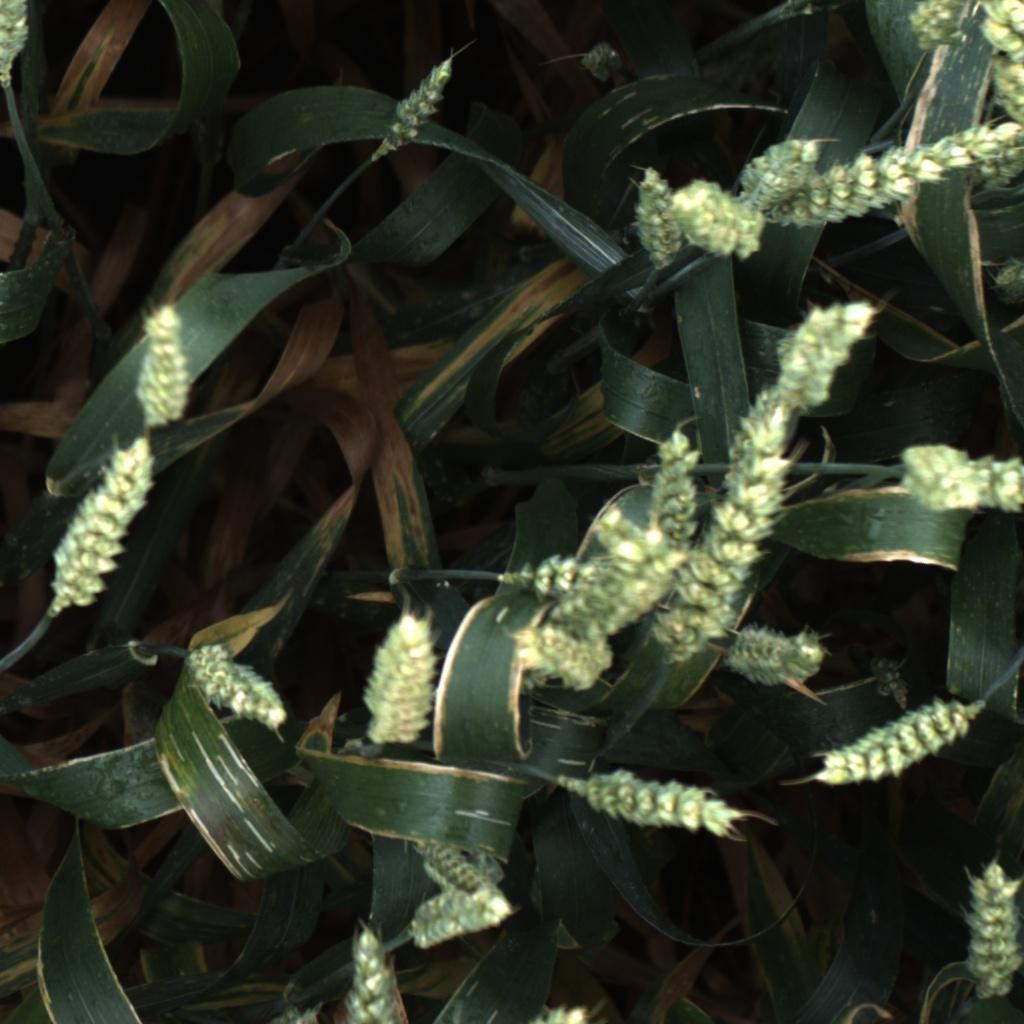0-0: (641, 376, 808, 669), (756, 115, 1024, 237), (45, 436, 158, 618), (541, 538, 697, 650), (815, 694, 987, 789), (564, 765, 751, 845), (766, 297, 883, 418), (360, 604, 443, 753), (951, 852, 1024, 995), (180, 639, 289, 734), (374, 54, 456, 164), (507, 621, 619, 696), (640, 428, 705, 557), (132, 295, 190, 431), (671, 181, 764, 265), (887, 437, 985, 516), (406, 889, 517, 957), (739, 128, 828, 209), (723, 624, 828, 692), (338, 918, 403, 1024), (499, 548, 611, 605), (629, 165, 685, 271), (420, 835, 508, 901), (976, 0, 1024, 119), (586, 501, 657, 569), (910, 0, 976, 57), (980, 450, 1024, 534), (0, 0, 36, 96), (483, 997, 596, 1024), (964, 147, 1024, 193), (574, 38, 627, 90), (986, 252, 1024, 312), (257, 992, 326, 1024)
